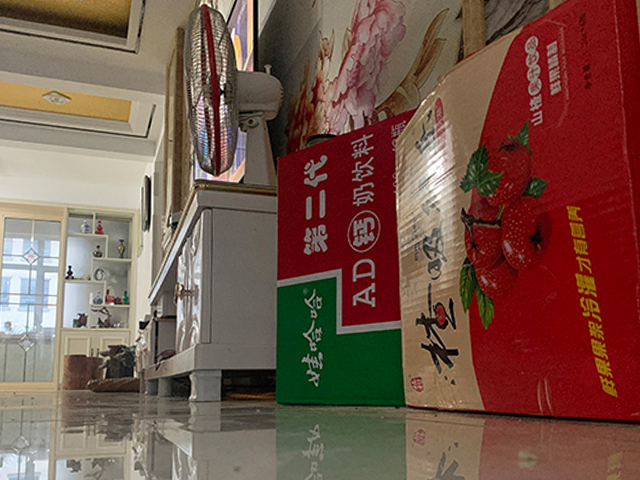cabinet: (136, 179, 280, 404)
